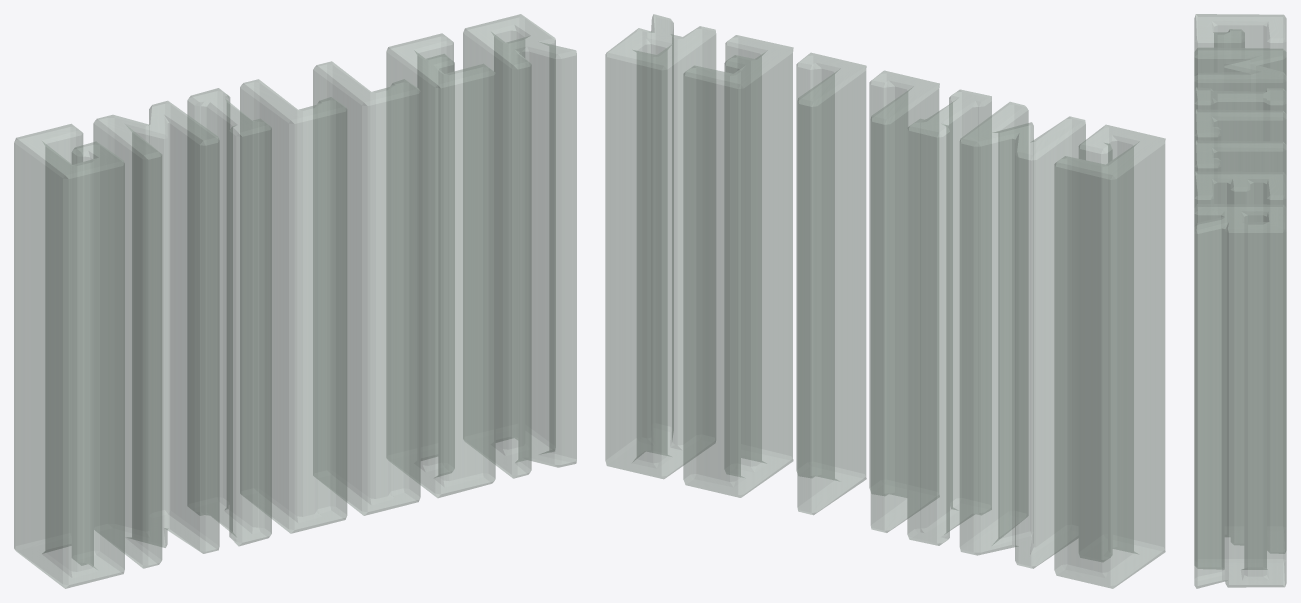
Rendered from GMILLER.glb.
The picture shows the model from 3 angles, left to right: view 1: azimuth 30°, elevation 25°; view 2: azimuth 150°, elevation 25°; view 3: azimuth 270°, elevation 25°; orthographic projection. The views are drawn at different scales.
Visible parts, largest first — view 1: Contact.005; view 2: Contact.005; view 3: Contact.005.
Part boxes in pixels (left/top/right/bottom): Contact.005: left=14, top=14, right=576, bottom=588; Contact.005: left=605, top=14, right=1165, bottom=588; Contact.005: left=1194, top=14, right=1286, bottom=588.
Bounding box in the file's own units: 3.35 × 2.58 × 0.6019.
1 material, 1 textured.
